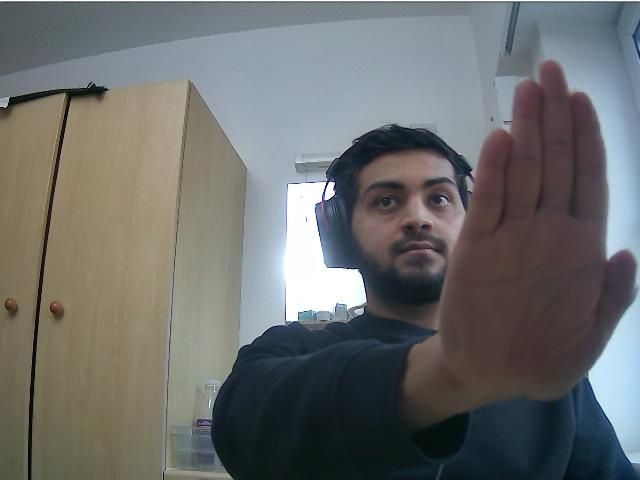up: (436, 58, 638, 406)
